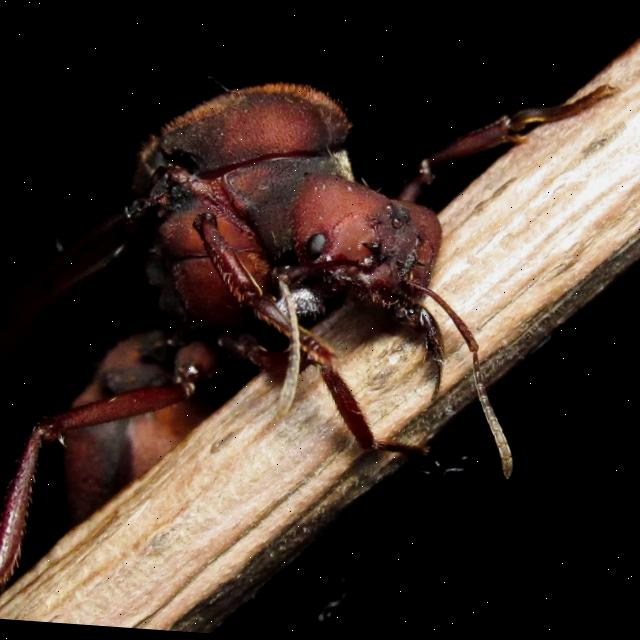Alive-Female-Alate: (0, 42, 619, 640)
